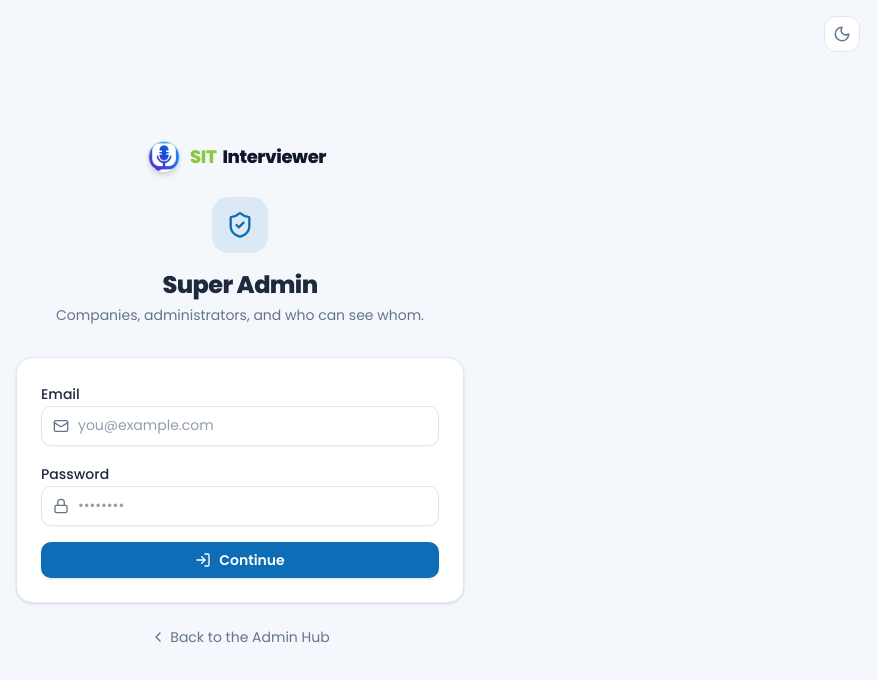
Test: step two: the code › does not offer the recovery path when no codes exist
The image size is (877, 680).
Type "admin@interviewer.com" into the field labelled "Email" at (240, 426), box x1=41 y1=406 x2=439 y2=446
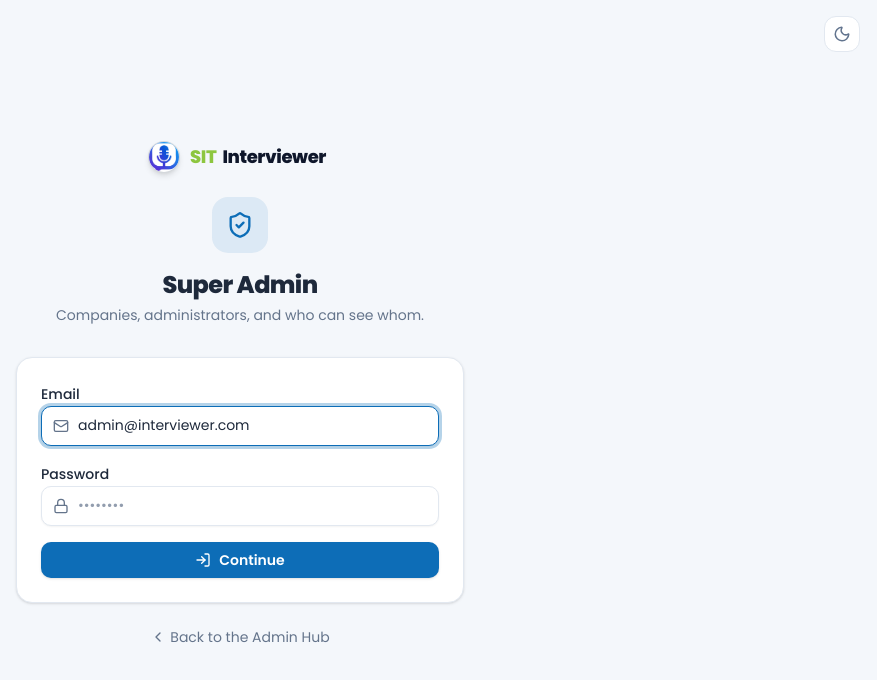
Type "correct-horse-battery" into the password field labelled "Password" at (240, 506), box x1=41 y1=486 x2=439 y2=526
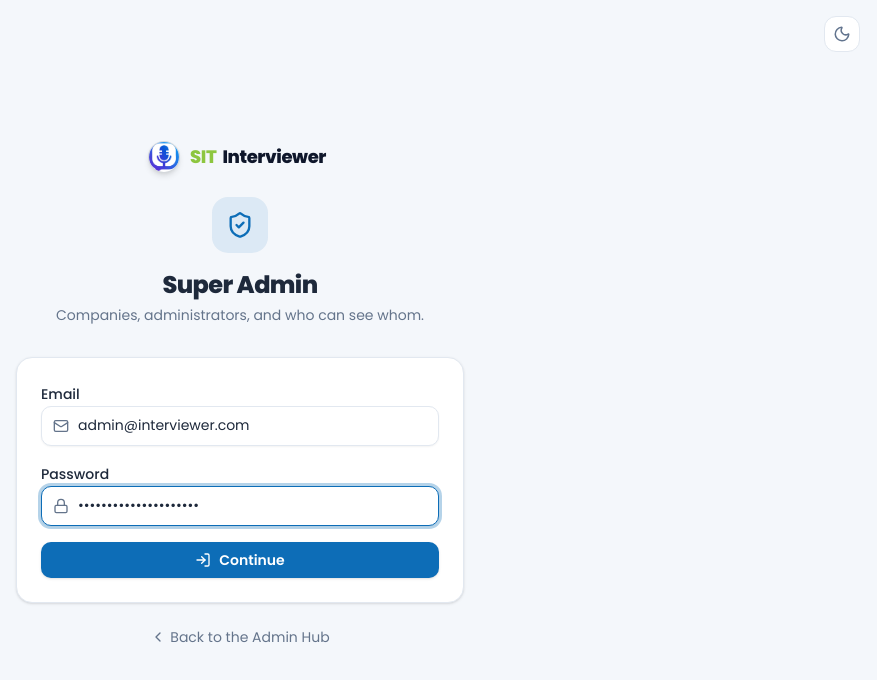
Click the button "Continue" at (240, 560), box x1=41 y1=542 x2=439 y2=578
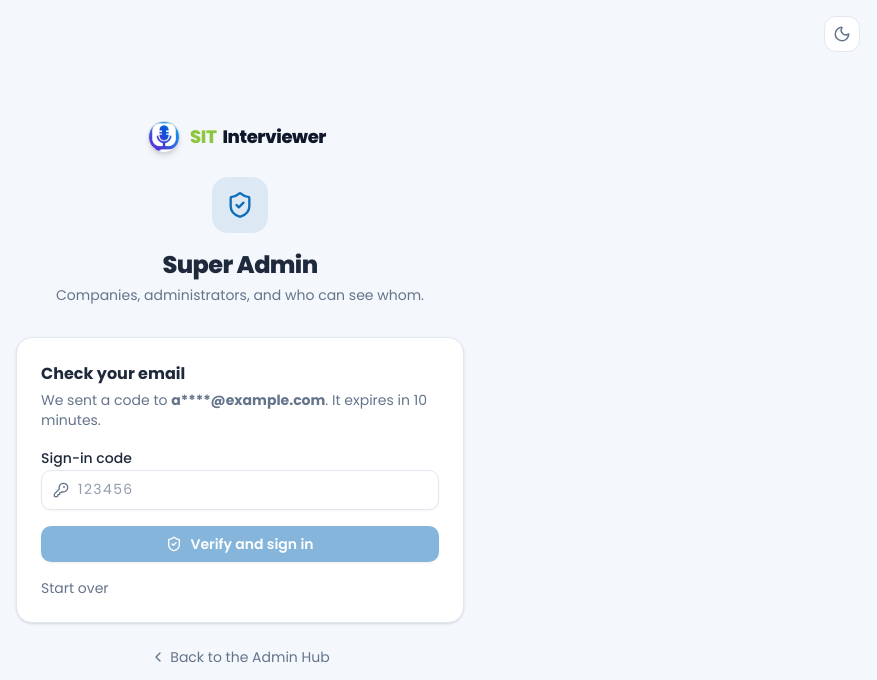
Expected: the field labelled "Sign-in code" is shown, x1=41 y1=470 x2=439 y2=510
Result: the field labelled "Didn't get the email" is gone
